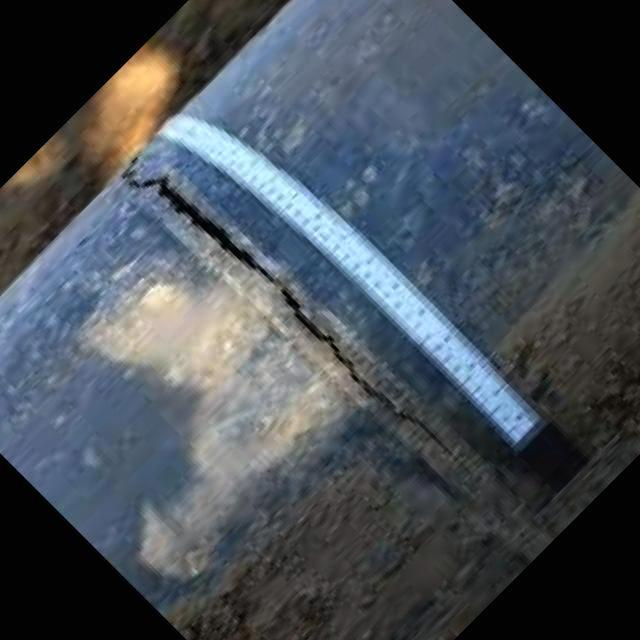defect: (114, 144, 481, 483)
